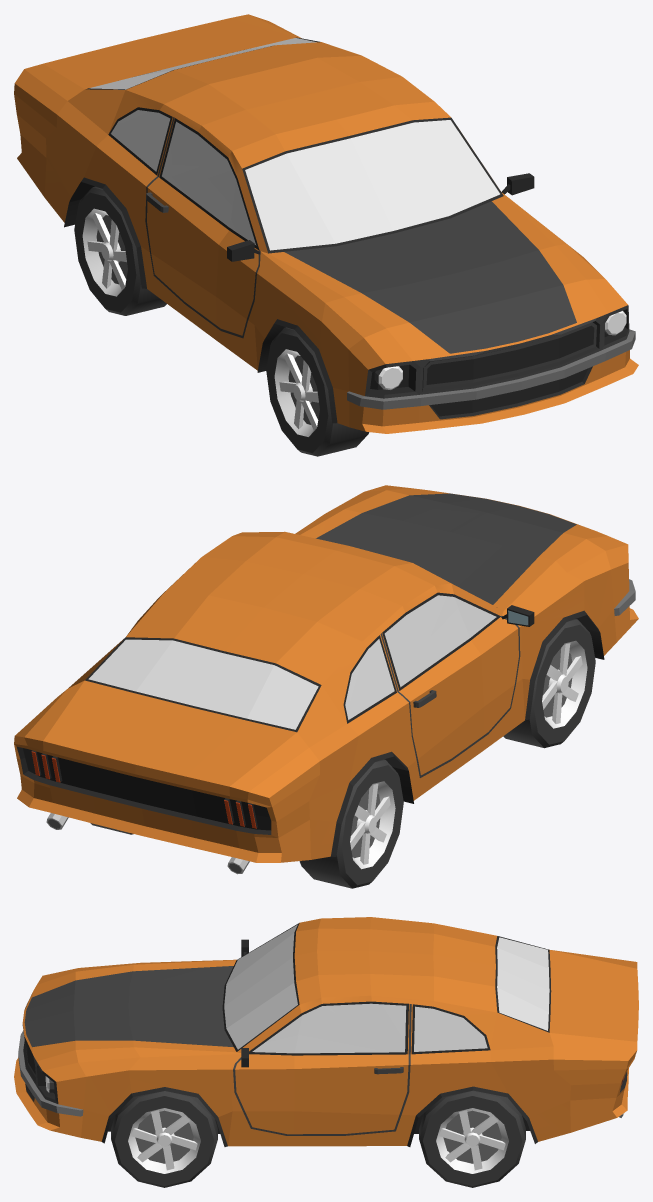
Rendered from N_Muscle Car_1.fbx.
3 renders of one model, top to bottom at view 1: azimuth 30°, elevation 25°; view 2: azimuth 150°, elevation 25°; view 3: azimuth 270°, elevation 25°, orthographic. The views are drawn at different scales.
Parts seen in each view (by area): view 1: N_Muscle Car_1 Lod_0, N_Muscle Car_1 R Door, N_Muscle Car_1 FR Tire, N_Muscle Car_1 BR Tire; view 2: N_Muscle Car_1 Lod_0, N_Muscle Car_1 R Door, N_Muscle Car_1 BR Tire, N_Muscle Car_1 FR Tire; view 3: N_Muscle Car_1 Lod_0, N_Muscle Car_1 L Door, N_Muscle Car_1 BL Tire, N_Muscle Car_1 FL Tire.
Part boxes in pixels (x1,y1,x2,y2): N_Muscle Car_1 Lod_0: (14, 14, 638, 433); N_Muscle Car_1 R Door: (145, 117, 260, 338); N_Muscle Car_1 FR Tire: (266, 327, 369, 456); N_Muscle Car_1 BR Tire: (74, 186, 166, 315); N_Muscle Car_1 Lod_0: (14, 485, 638, 874); N_Muscle Car_1 R Door: (380, 592, 534, 777); N_Muscle Car_1 BR Tire: (299, 759, 403, 888); N_Muscle Car_1 FR Tire: (503, 619, 595, 748); N_Muscle Car_1 Lod_0: (14, 917, 638, 1146); N_Muscle Car_1 L Door: (233, 1001, 411, 1135); N_Muscle Car_1 BL Tire: (419, 1090, 525, 1187); N_Muscle Car_1 FL Tire: (111, 1091, 217, 1187).
Size of what is drawn, in the model's own units: 2.05 by 1.5 by 4.58.
